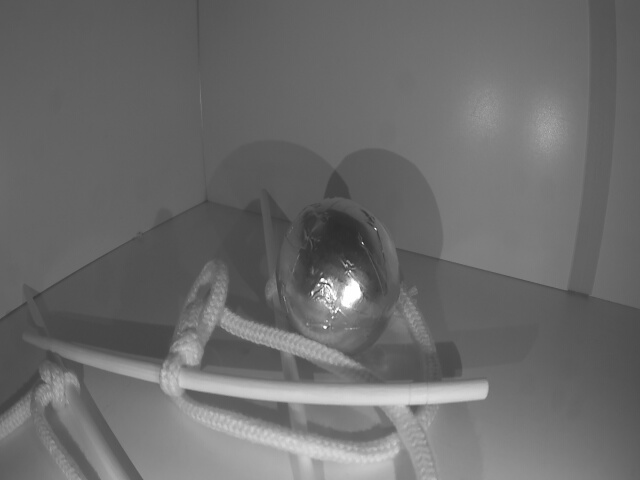Live: (274, 199, 400, 356)
